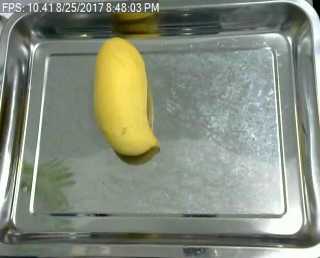Mango: (90, 33, 166, 161)
